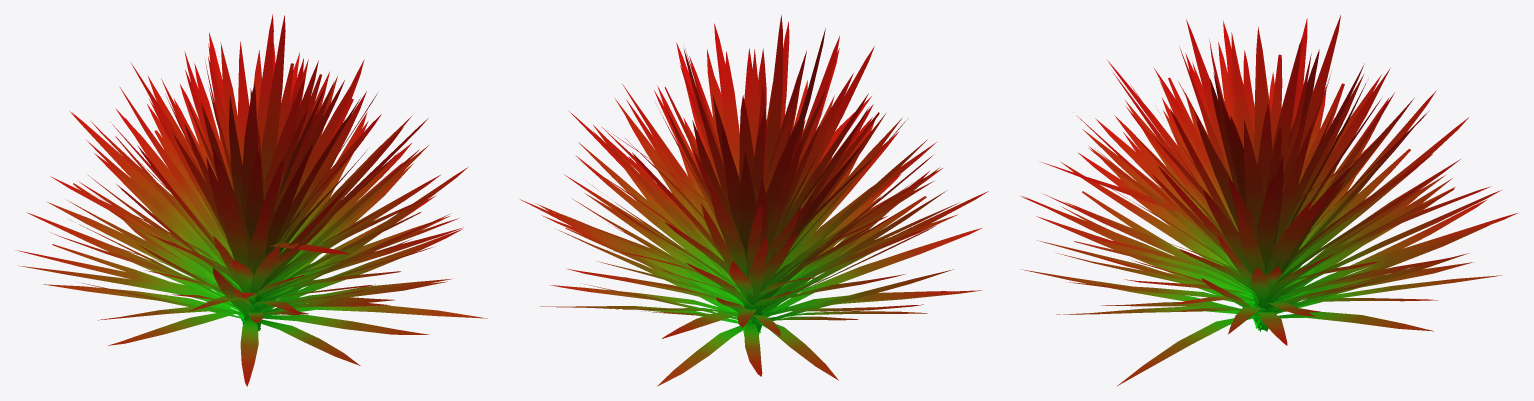
The model's file is Var8_LOD4.fbx.
3 views of the same model, side by side, from view 1: azimuth 30°, elevation 25°; view 2: azimuth 150°, elevation 25°; view 3: azimuth 270°, elevation 25° (orthographic). The views are drawn at different scales.
Visible parts, largest first — view 1: _czcs_Var8_LOD4; view 2: _czcs_Var8_LOD4; view 3: _czcs_Var8_LOD4.
Boxes of the visible parts, left/top/right/bottom form: _czcs_Var8_LOD4: left=15, top=14, right=487, bottom=386; _czcs_Var8_LOD4: left=520, top=15, right=988, bottom=386; _czcs_Var8_LOD4: left=1021, top=15, right=1517, bottom=385.
Size of the model in its own units: 93.83 by 65.37 by 98.61.
